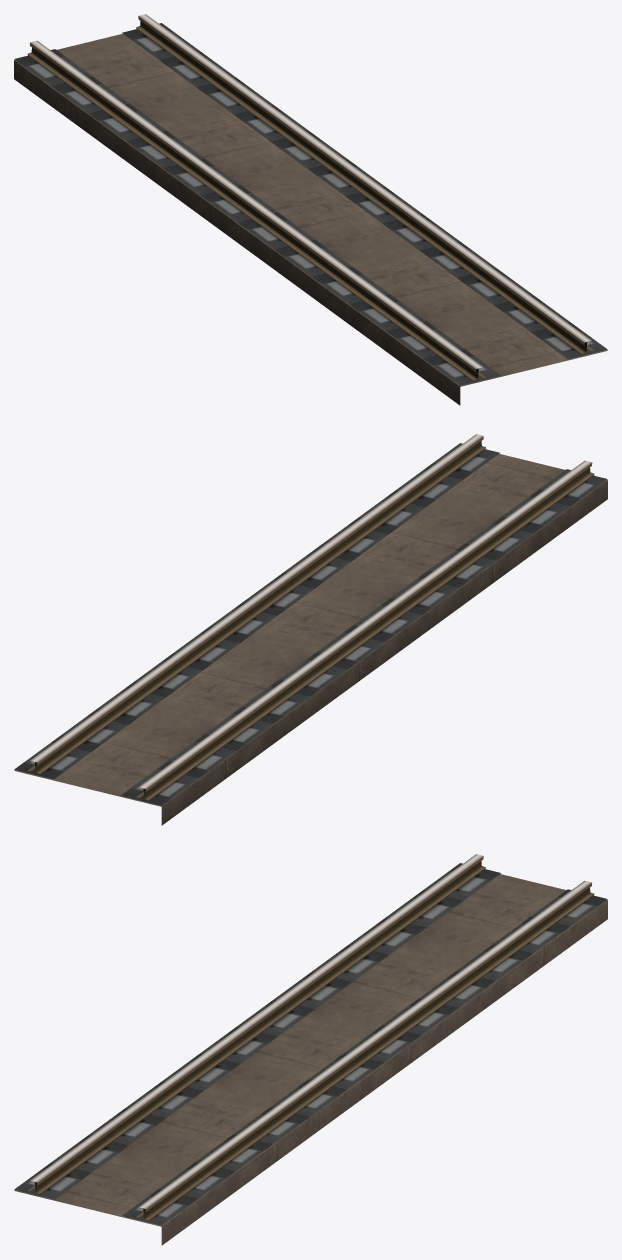
Rendered from MEI_1RAIL_25_CHIKA.glb.
3 renders of one model, top to bottom at view 1: azimuth 30°, elevation 25°; view 2: azimuth 150°, elevation 25°; view 3: azimuth 330°, elevation 25°, orthographic.
Visible parts, largest first — view 1: obj21; view 2: obj21; view 3: obj21.
Boxes of the visible parts, <box> form: obj21: <box>14,14,607,405</box>; obj21: <box>14,434,607,825</box>; obj21: <box>14,854,607,1245</box>.
Bounding box in the file's own units: 4.78 × 1.02 × 25.
4 materials, 3 textured.
